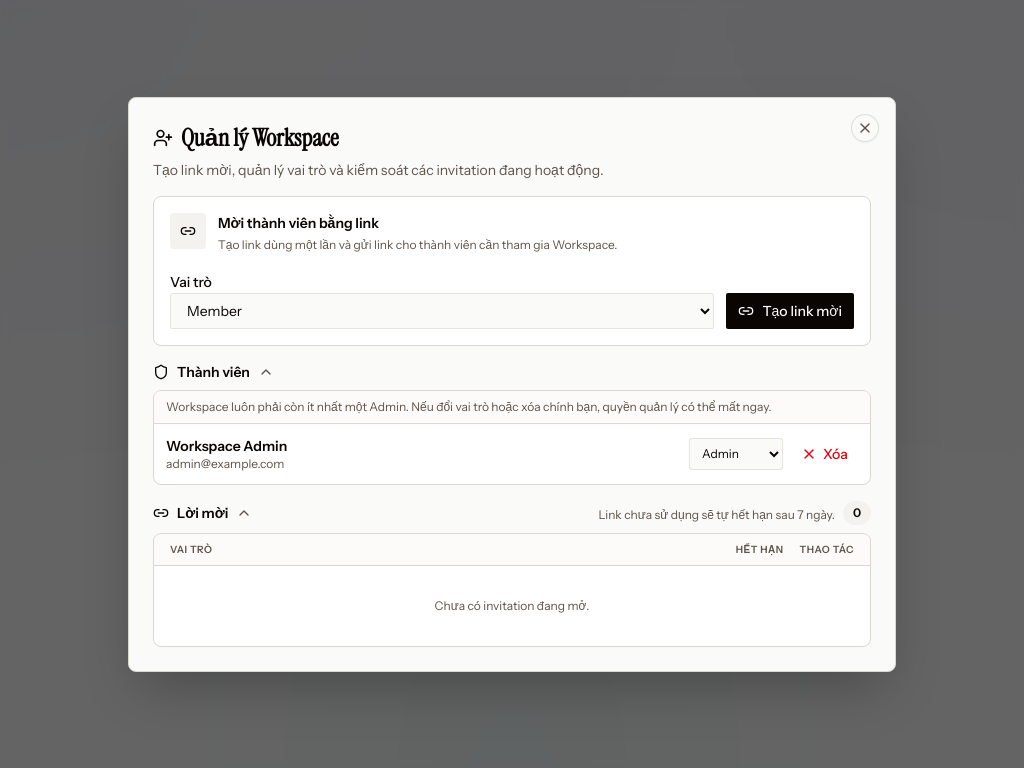
Test: WorkspaceManagementModal › creates a link-only invitation with the deployed URL
Expected: the text "Workspace Admin" is shown, x1=166 y1=436 x2=287 y2=456
Step 1. Click the button "Tạo link mời" → (790,310), box x1=726 y1=292 x2=854 y2=328
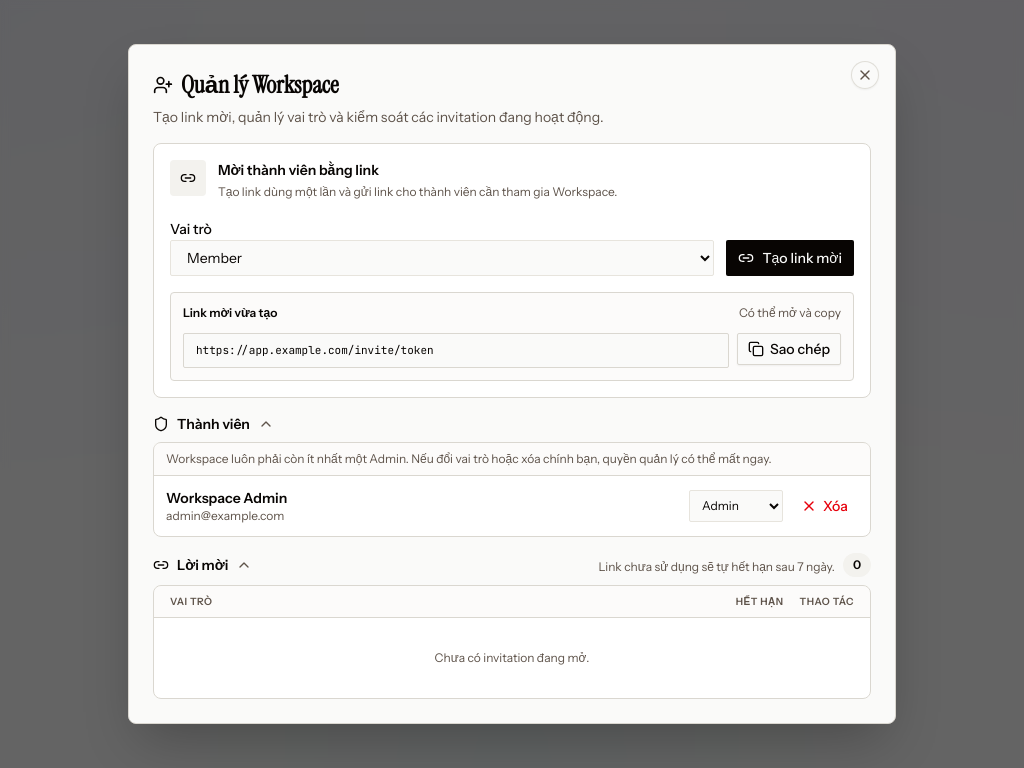
Step 2. Click the button "Sao chép" → (789,349), box x1=737 y1=333 x2=841 y2=365
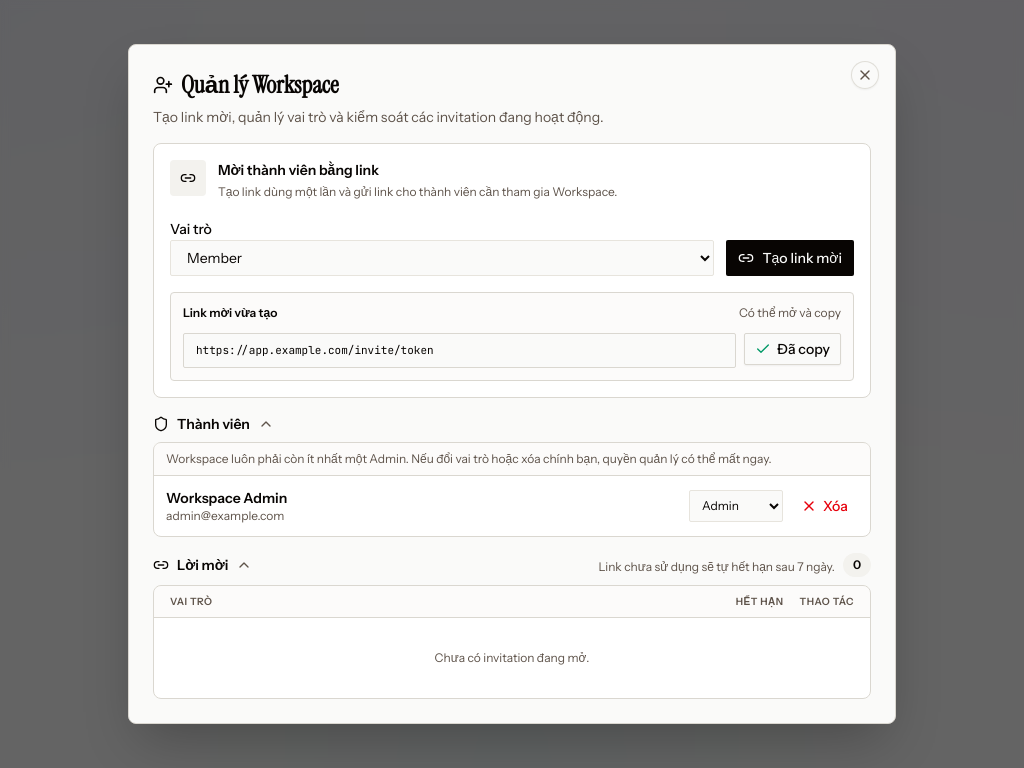
Now the button "Đã copy" is shown, box x1=744 y1=333 x2=841 y2=365
